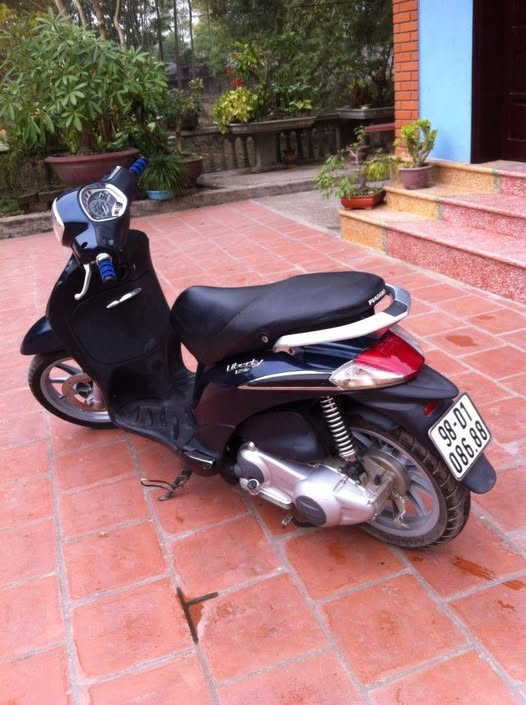bien_so: (423, 387, 499, 486)
